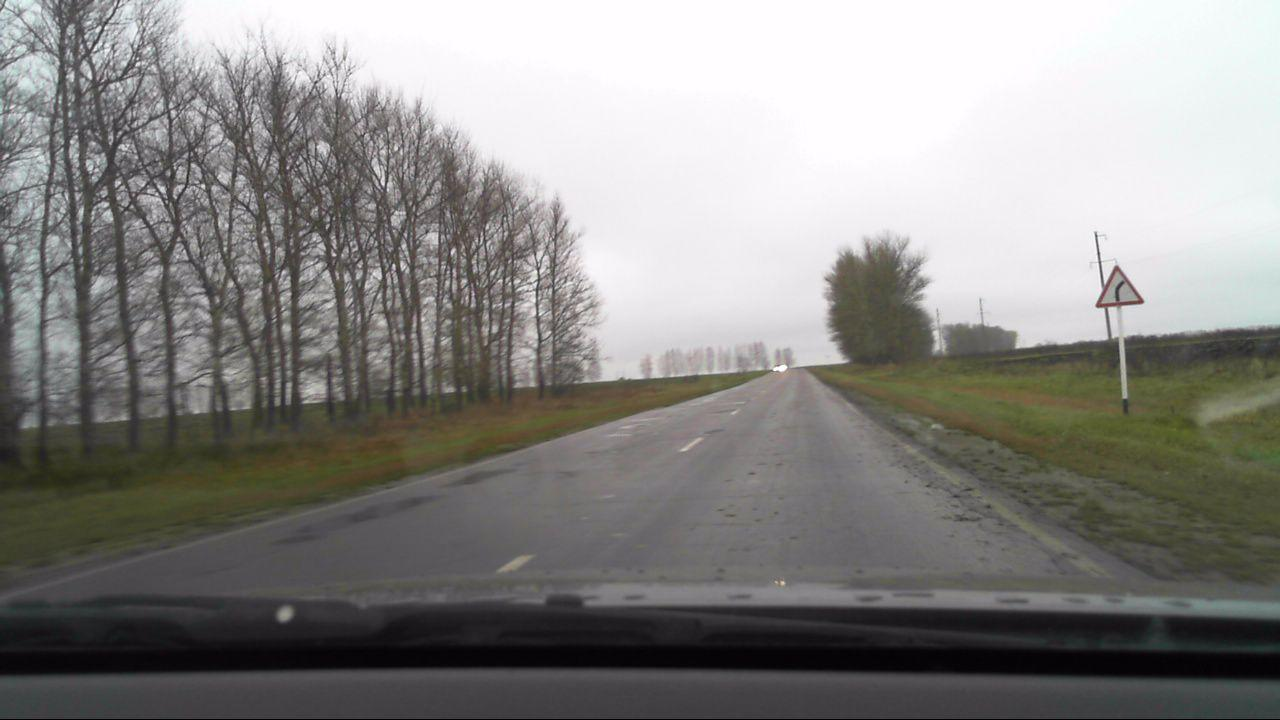1_11_1: (1093, 263, 1147, 310)
